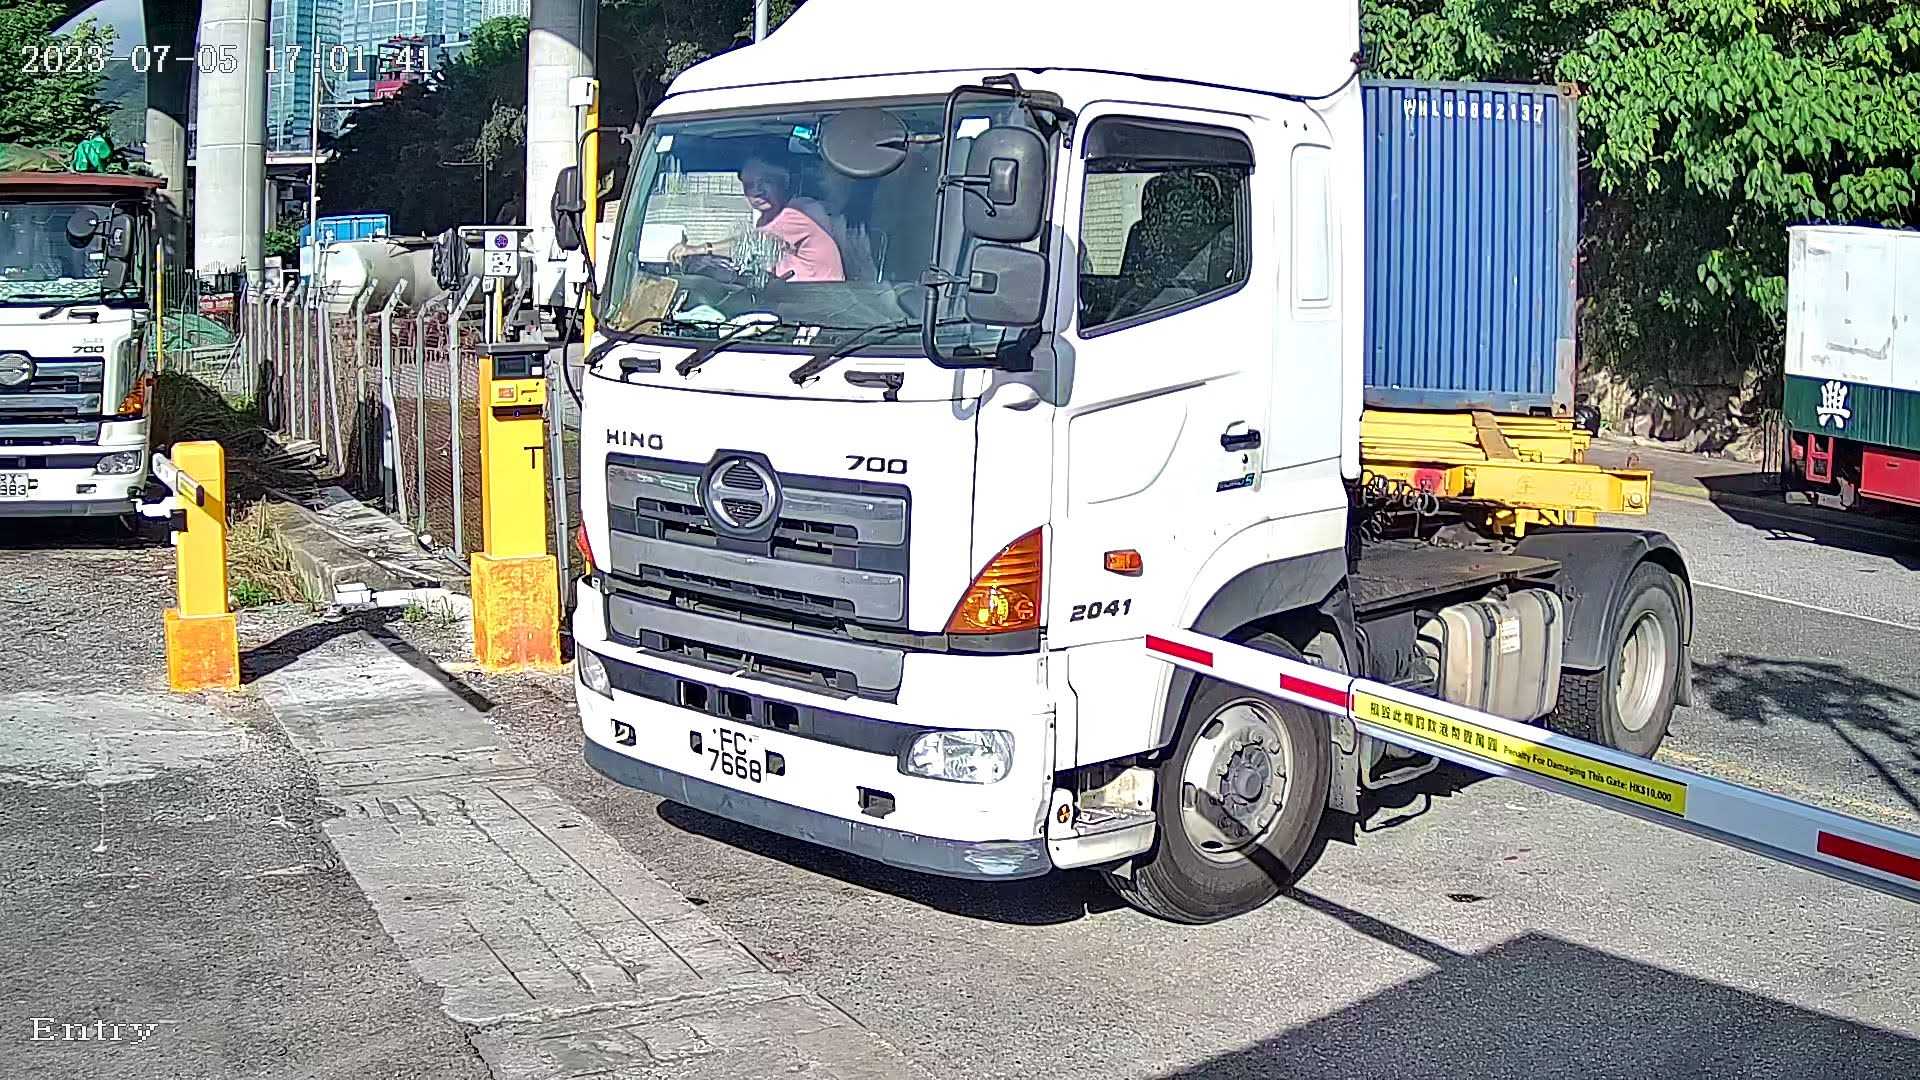tractor: (534, 1, 1729, 938)
